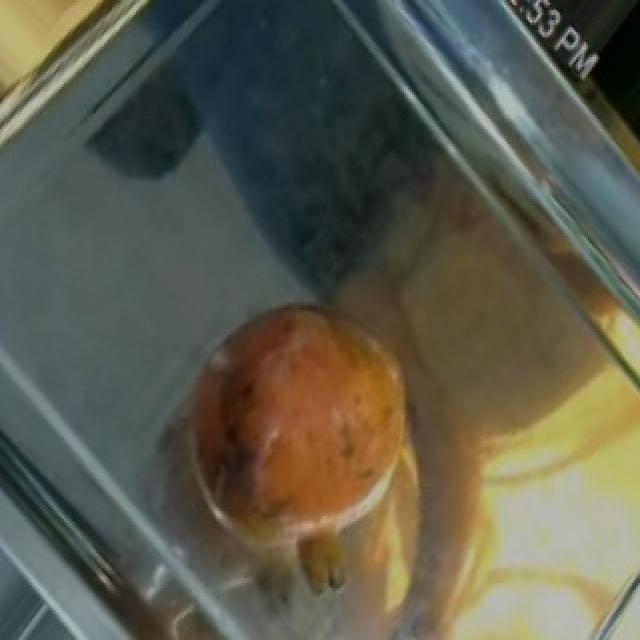fruit: (156, 273, 440, 533)
